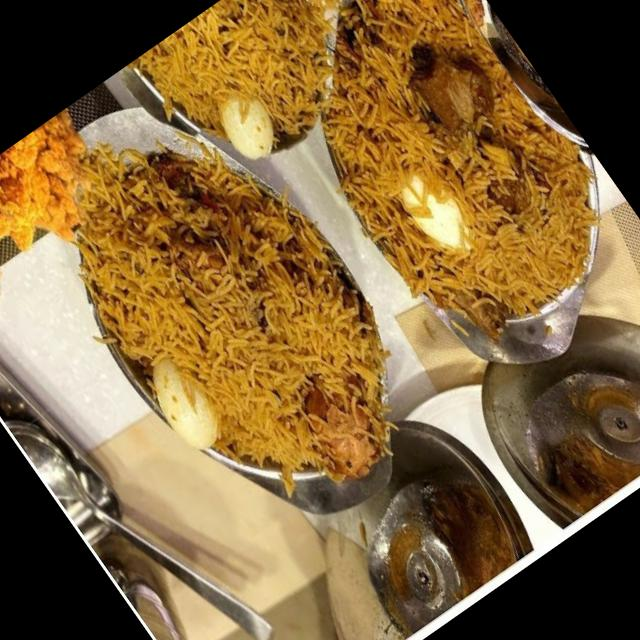Biryani: (31, 90, 443, 548), (247, 0, 640, 371), (132, 0, 391, 194)
